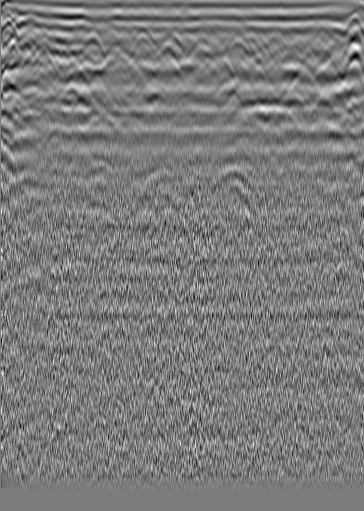가스: (82, 156, 112, 185)
상수: (313, 23, 333, 43)
오수: (32, 32, 52, 52)
우수: (182, 31, 217, 58)
